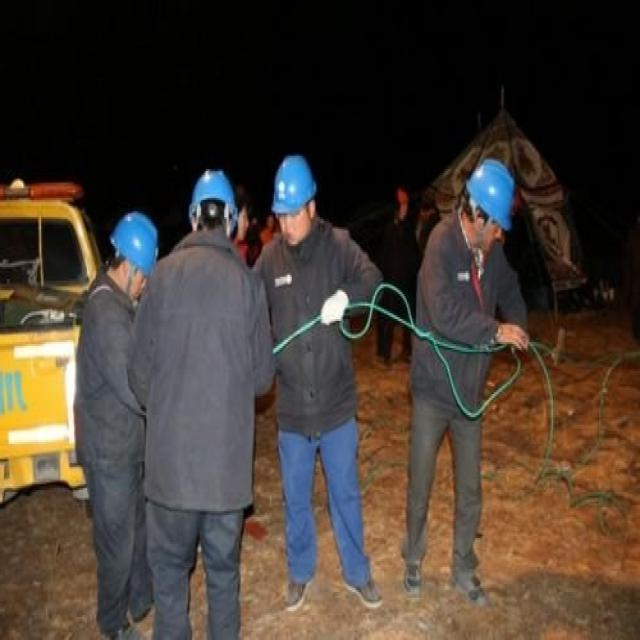Con_Casco: (462, 156, 514, 244), (270, 156, 318, 240)
